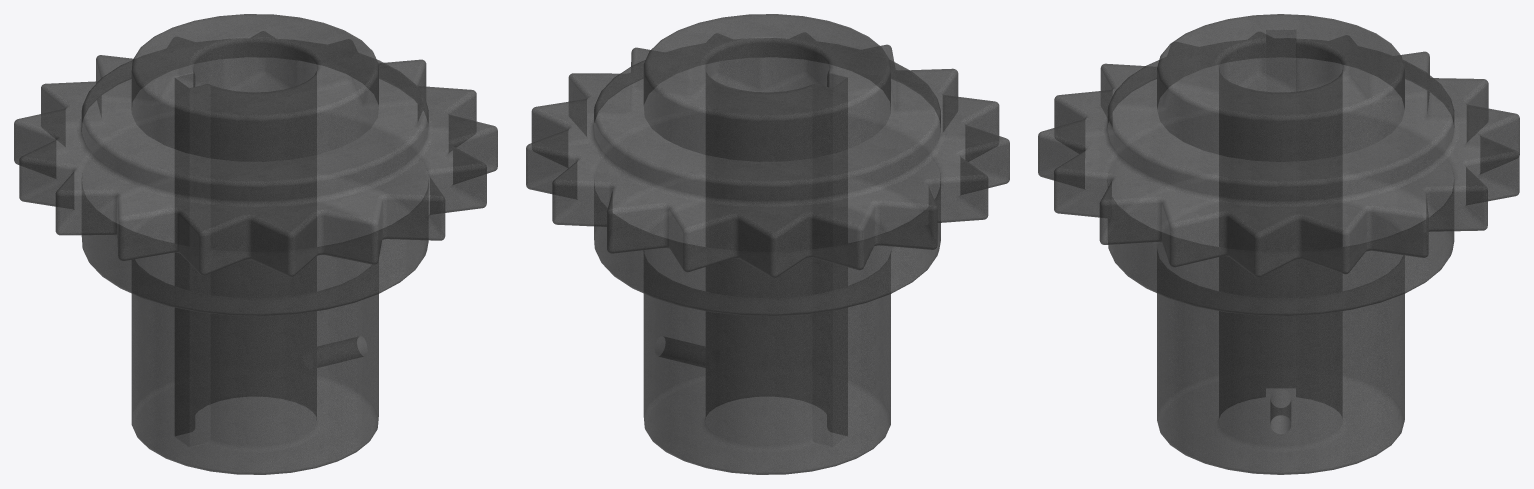
The model's file is gear9.gltf.
3 renders of one model, left to right at view 1: azimuth 30°, elevation 25°; view 2: azimuth 150°, elevation 25°; view 3: azimuth 270°, elevation 25°, orthographic.
Parts seen in each view (by area): view 1: gearrr v1; view 2: gearrr v1; view 3: gearrr v1.
Boxes of the visible parts, bbox=[...] form: gearrr v1: bbox=[14, 14, 497, 474]; gearrr v1: bbox=[526, 14, 1009, 474]; gearrr v1: bbox=[1038, 14, 1519, 474].
Bounding box in the file's own units: 2.91 × 2.38 × 2.9.
1 material, 1 textured.
